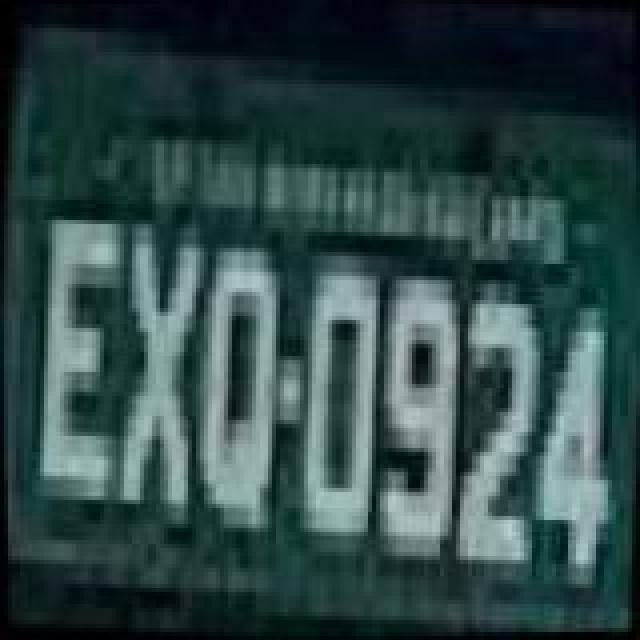2: (450, 284, 550, 584)
4: (526, 308, 626, 588)
9: (366, 270, 474, 570)
E: (28, 212, 136, 508)
O: (290, 256, 390, 556)
Q: (184, 242, 296, 542)
X: (106, 216, 210, 524)
